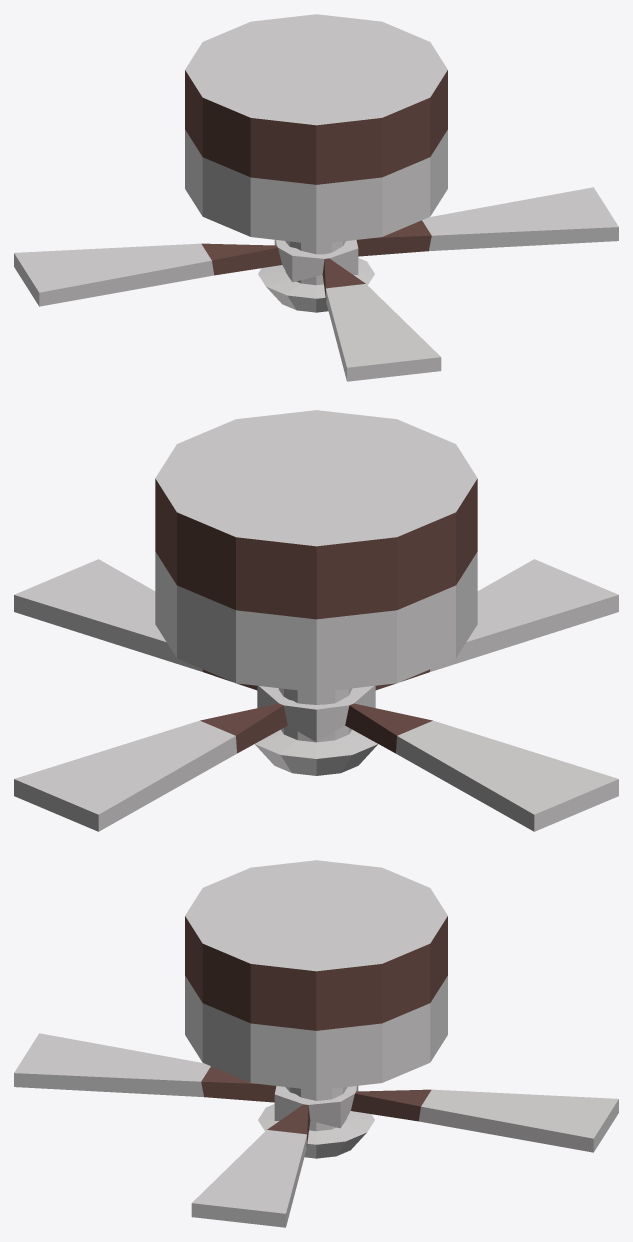
File: Lamp 2.fbx
The picture shows the model from 3 angles, top to bottom: view 1: azimuth 30°, elevation 25°; view 2: azimuth 150°, elevation 25°; view 3: azimuth 270°, elevation 25°; orthographic projection. The views are drawn at different scales.
Visible parts, largest first — view 1: Cylinder, Cylinder.001; view 2: Cylinder, Cylinder.001; view 3: Cylinder, Cylinder.001.
Boxes of the visible parts, box(x1,y1,x2,y2) form: Cylinder: box(185, 14, 447, 312); Cylinder.001: box(14, 187, 618, 381); Cylinder: box(155, 410, 477, 775); Cylinder.001: box(14, 559, 618, 831); Cylinder: box(185, 860, 447, 1158); Cylinder.001: box(14, 1033, 618, 1227).
Size of the model in its own units: 460 by 190 by 460.
